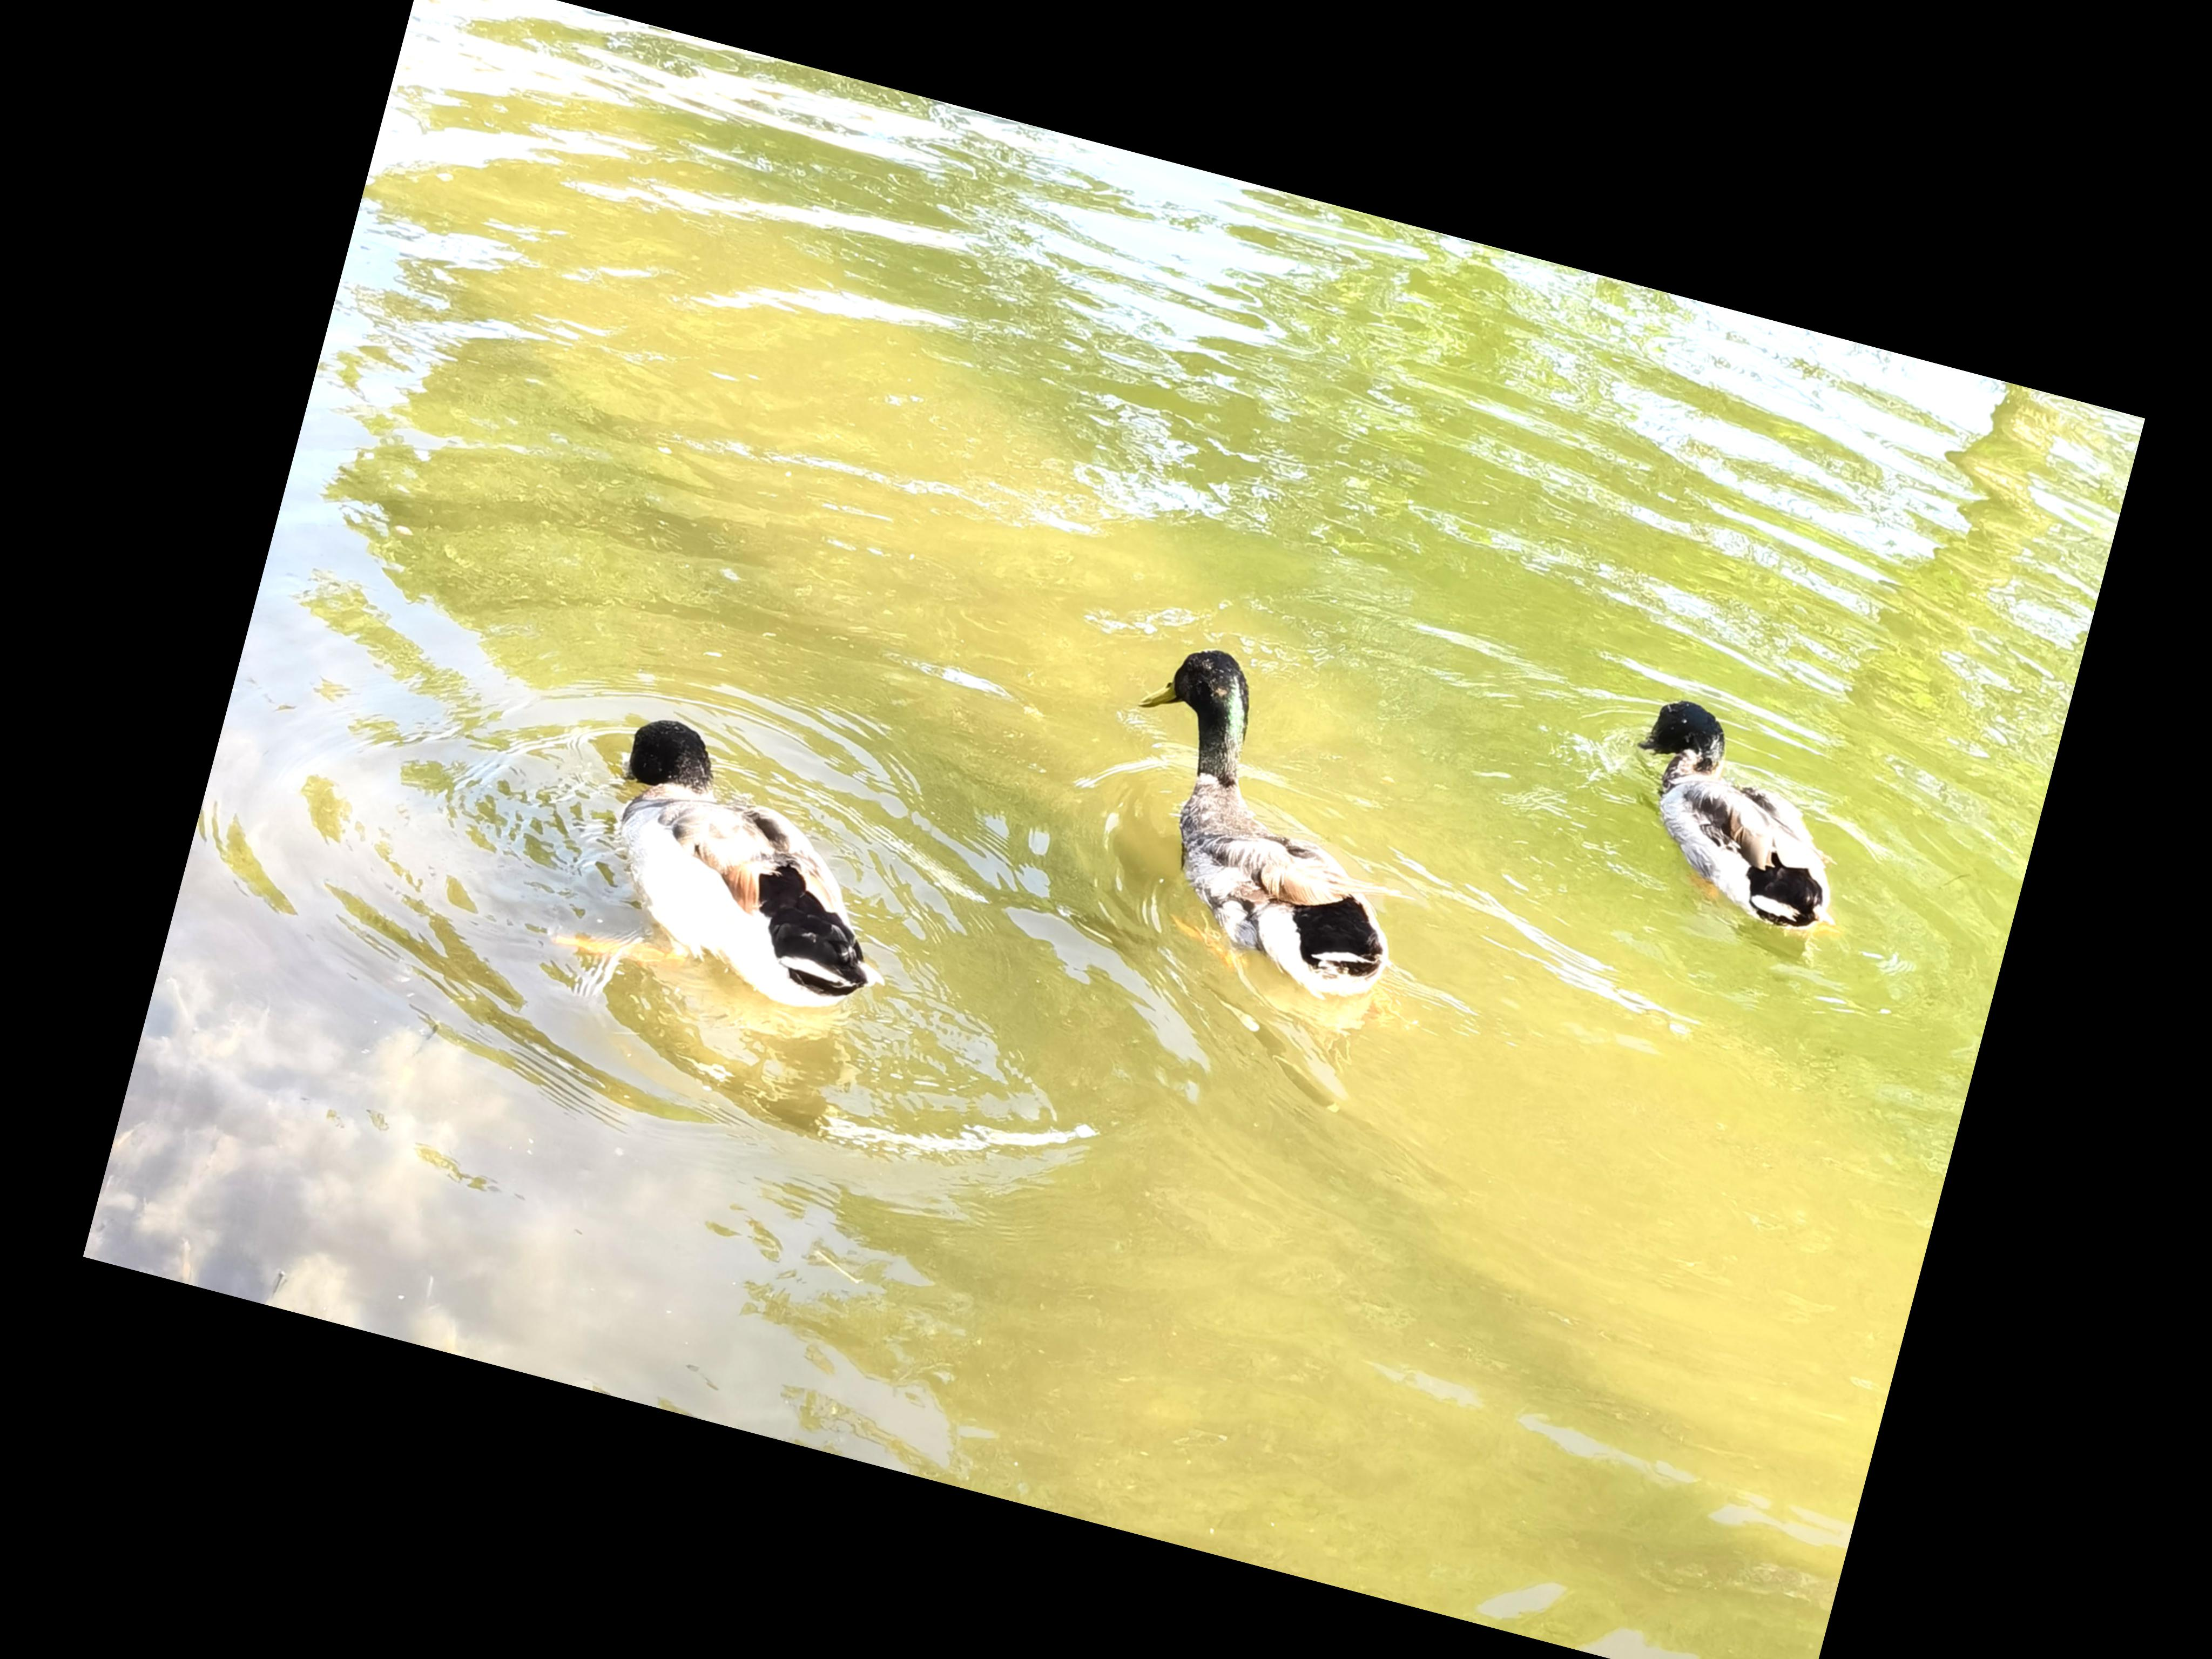duck: (1042, 619, 1503, 1075), (496, 673, 979, 1098), (1583, 680, 1897, 979)
